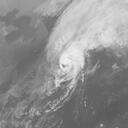cyclone: (45, 38, 85, 79)
